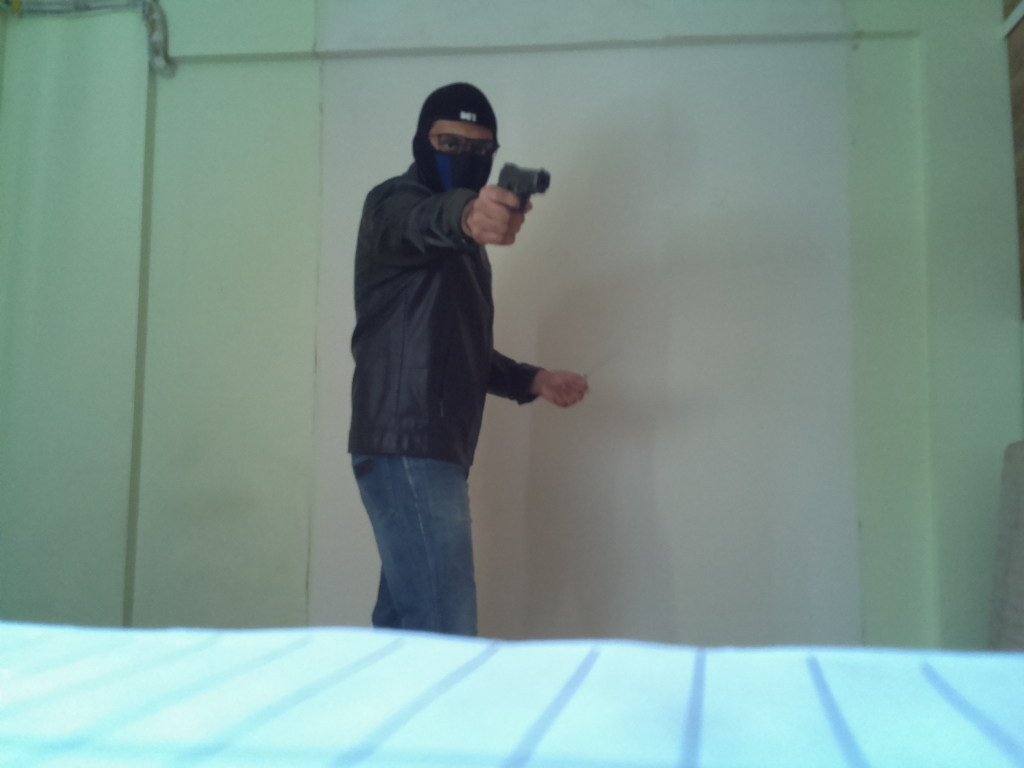gun: (495, 163, 550, 236)
